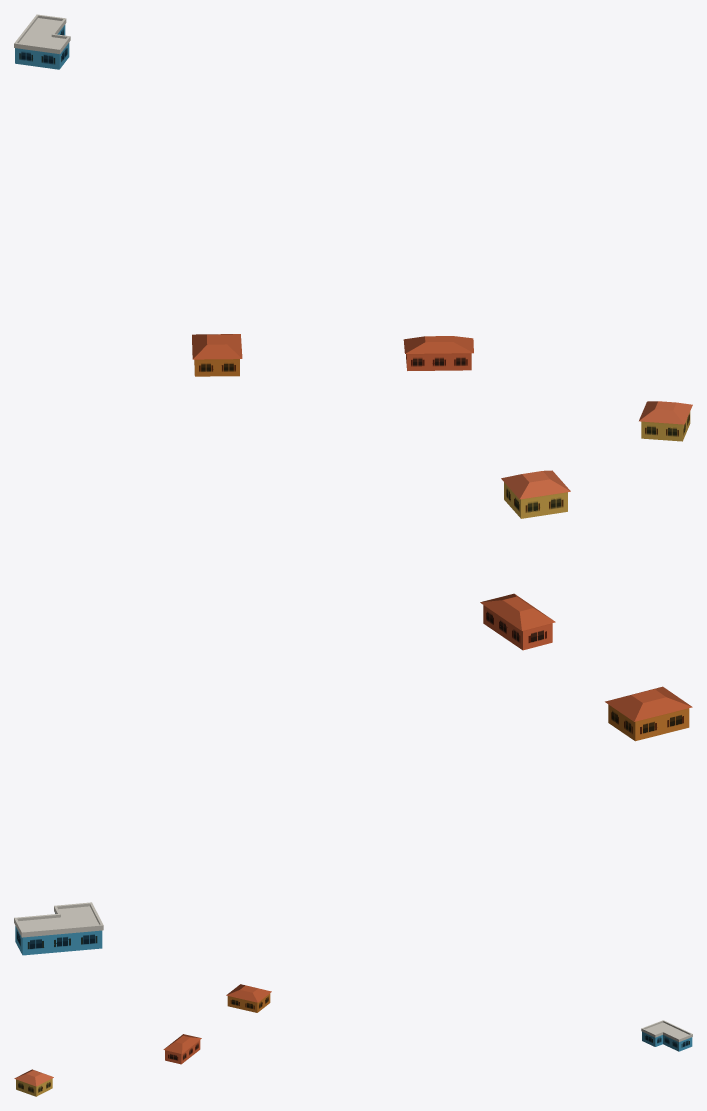
File: msb_oranjestad_m20_0.glb
3 views of the same model, one above another, from view 1: azimuth 30°, elevation 25°; view 2: azimuth 150°, elevation 25°; view 3: azimuth 270°, elevation 25° (orthographic). The views are drawn at different scales.
Parts seen in each view (by area): view 1: msb_oranjestad_m20_0_lod0; view 2: msb_oranjestad_m20_0_lod0; view 3: msb_oranjestad_m20_0_lod0.
Part boxes in pixels (x1=…): msb_oranjestad_m20_0_lod0: x1=14, y1=14, x2=692, y2=441; msb_oranjestad_m20_0_lod0: x1=14, y1=470, x2=692, y2=955; msb_oranjestad_m20_0_lod0: x1=14, y1=984, x2=692, y2=1096.
Size of what is drawn, in the model's own units: 67.71 by 8.75 by 195.
Materials: 3 (1 with a texture image).
